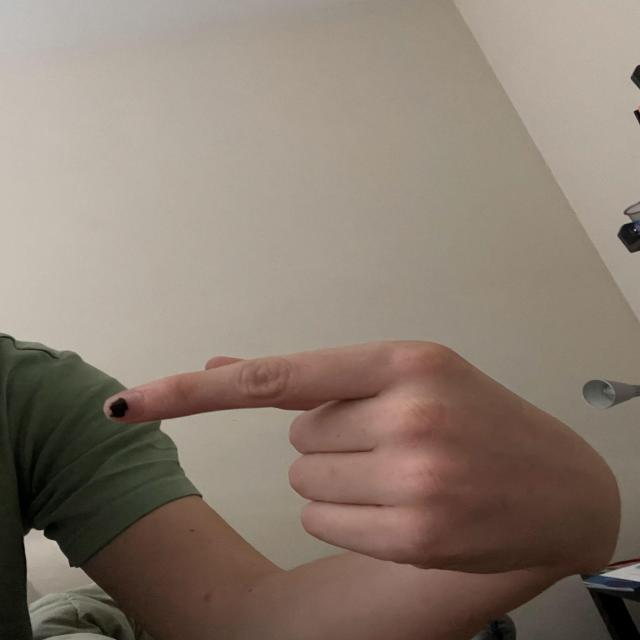G: (99, 333, 620, 574)
